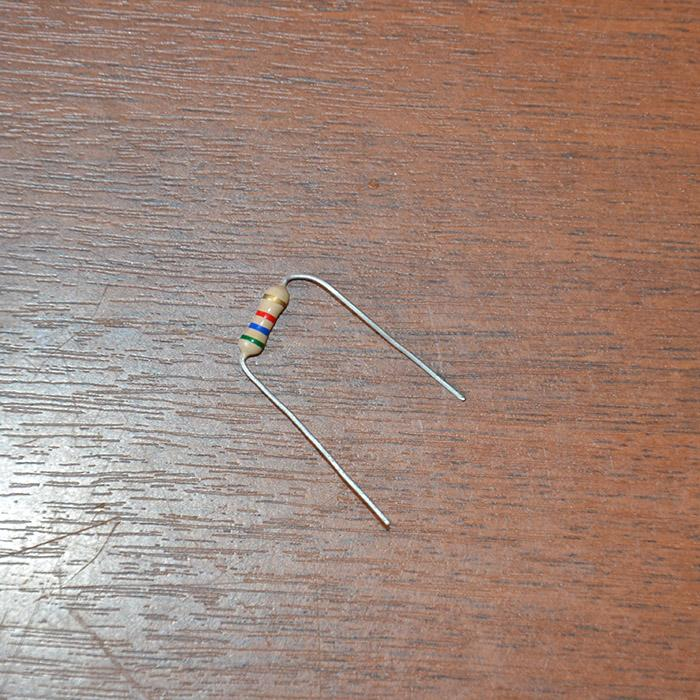resistor: (238, 283, 290, 358)
